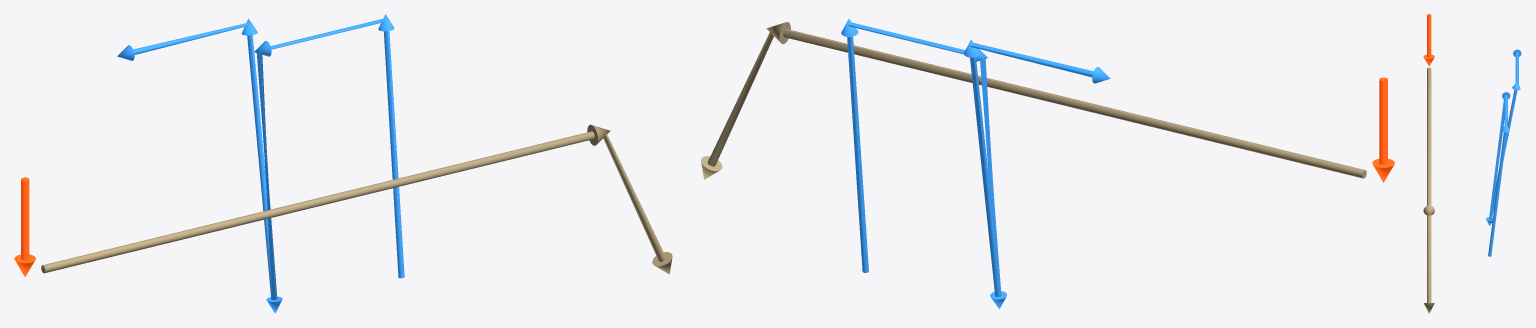
File: hydrate_washing_system_flow.glb
The picture shows the model from 3 angles, left to right: view 1: azimuth 30°, elevation 25°; view 2: azimuth 150°, elevation 25°; view 3: azimuth 270°, elevation 25°; orthographic projection. The views are drawn at different scales.
Visible parts, largest first — view 1: cake.001, wash_cascade, slurry; view 2: cake.001, wash_cascade, slurry; view 3: wash_cascade, cake.001, slurry.
Part boxes in pixels (x1,y1,x2,y2): cake.001: (41, 124, 672, 274); wash_cascade: (117, 14, 404, 313); slurry: (14, 177, 35, 276); cake.001: (701, 22, 1366, 179); wash_cascade: (841, 19, 1110, 308); slurry: (1372, 77, 1394, 182); wash_cascade: (1486, 49, 1521, 256); cake.001: (1423, 67, 1434, 313); slurry: (1423, 14, 1434, 66).
Bounding box in the file's own units: 3.63 × 1.48 × 0.891.
